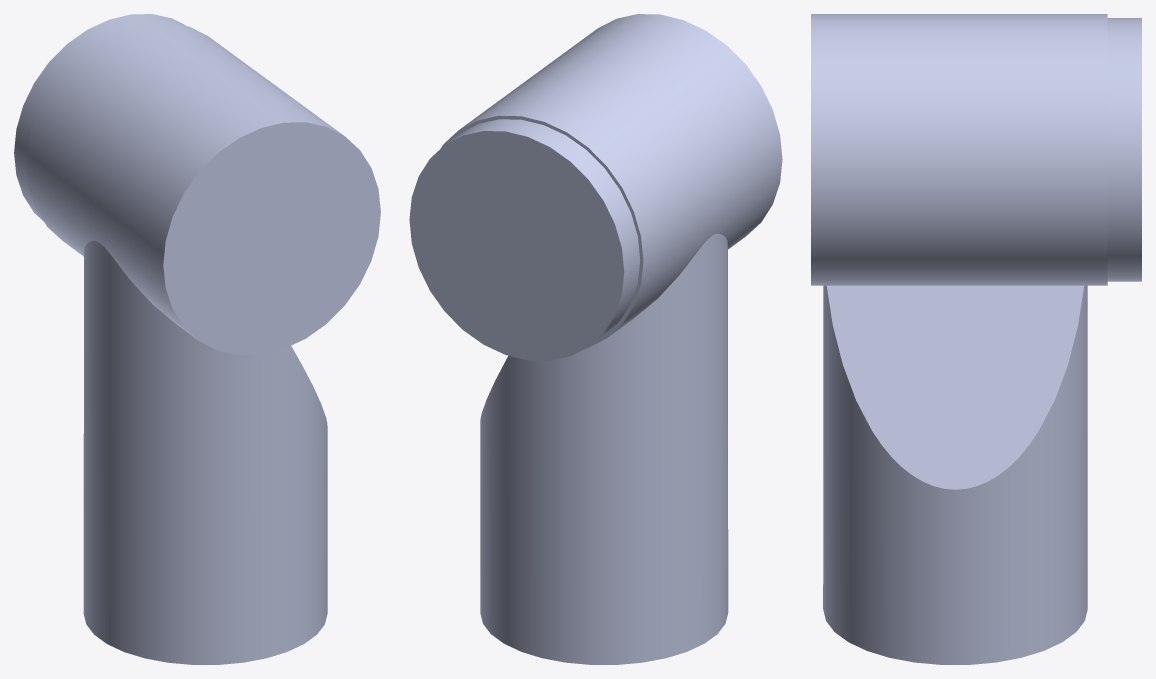
3 views of the same model, side by side, from view 1: azimuth 30°, elevation 25°; view 2: azimuth 150°, elevation 25°; view 3: azimuth 270°, elevation 25° (orthographic). The views are drawn at different scales.
Visible parts, largest first — view 1: FBXASC060LINK3BFBXASC062-FBXASC060FBXASC195FBXASC135FBXASC19; view 2: FBXASC060LINK3BFBXASC062-FBXASC060FBXASC195FBXASC135FBXASC19; view 3: FBXASC060LINK3BFBXASC062-FBXASC060FBXASC195FBXASC135FBXASC19.
Part boxes in pixels (x1,y1,x2,y2): FBXASC060LINK3BFBXASC062-FBXASC060FBXASC195FBXASC135FBXASC19: [14, 14, 380, 664]; FBXASC060LINK3BFBXASC062-FBXASC060FBXASC195FBXASC135FBXASC19: [409, 14, 782, 664]; FBXASC060LINK3BFBXASC062-FBXASC060FBXASC195FBXASC135FBXASC19: [811, 14, 1141, 664].
Size of the model in its own units: 0.068 by 0.0825 by 0.1603.
